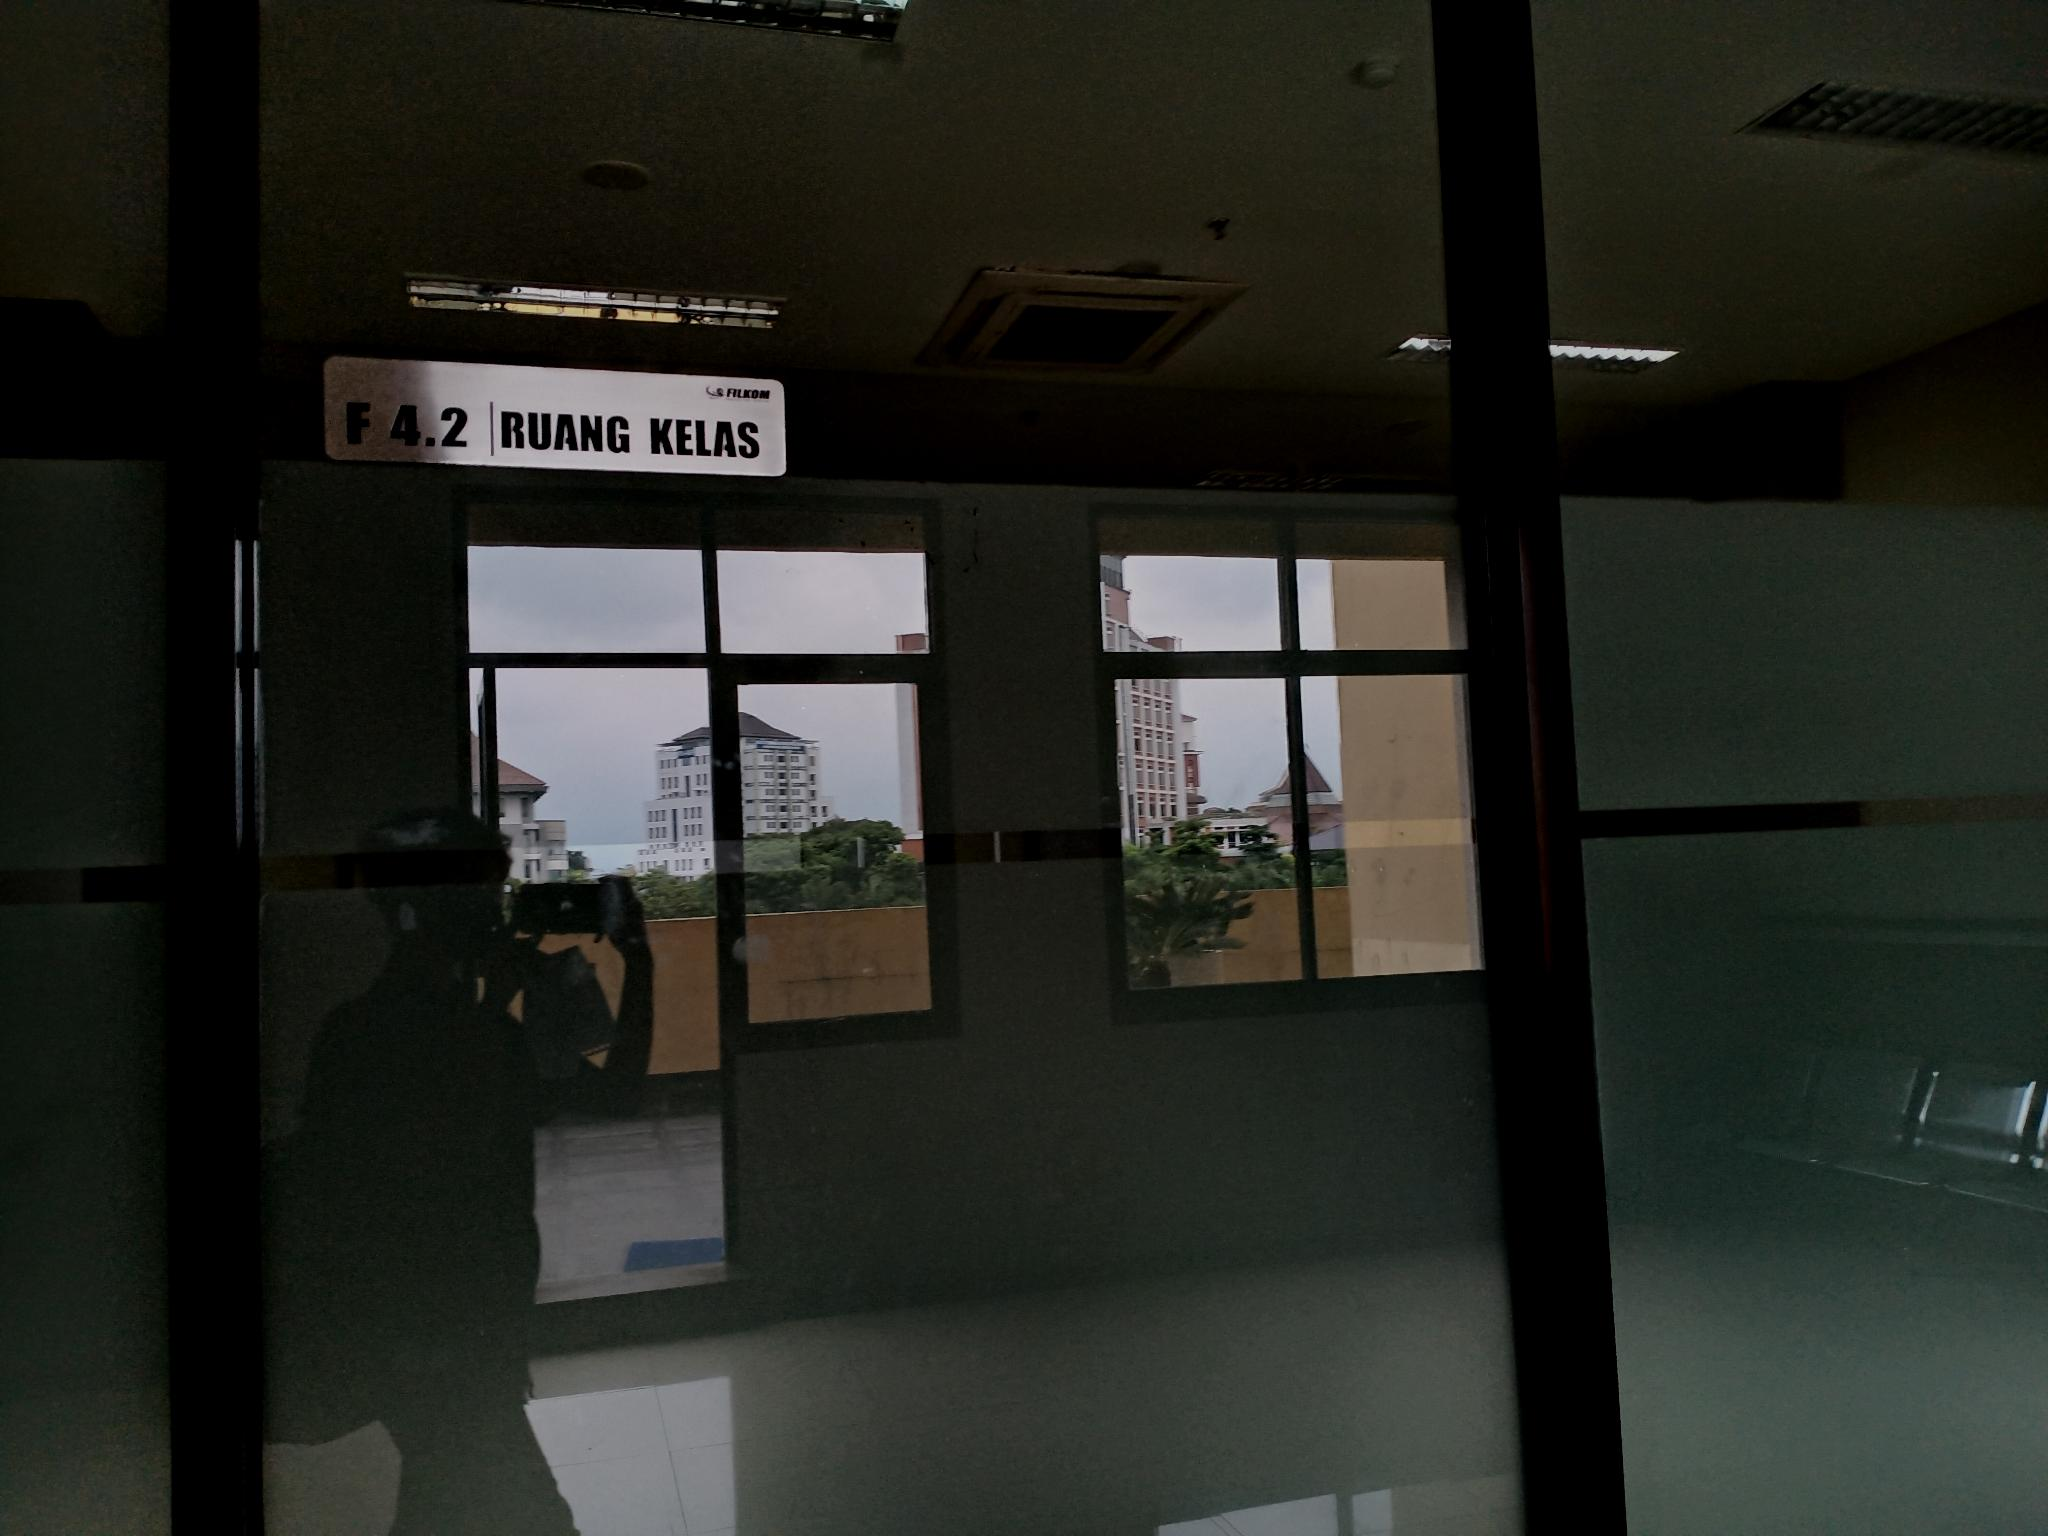plate: (321, 355, 787, 478)
